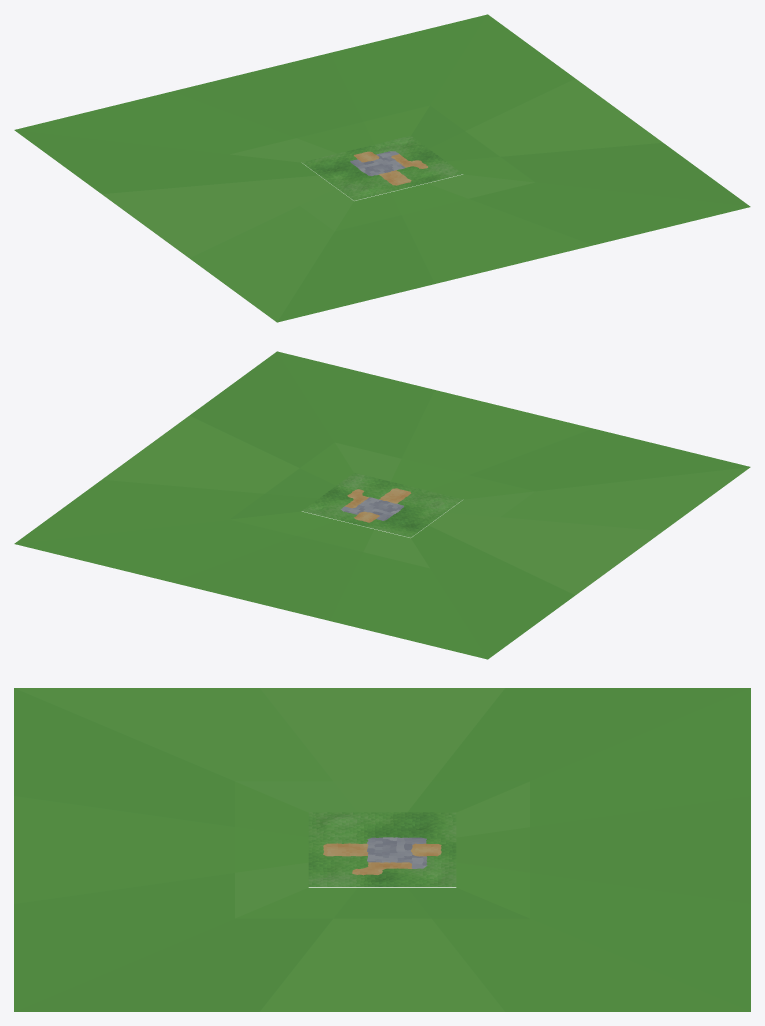
Rendered from ground.glb.
3 renders of one model, top to bottom at view 1: azimuth 30°, elevation 25°; view 2: azimuth 150°, elevation 25°; view 3: azimuth 270°, elevation 25°, orthographic. The views are drawn at different scales.
Visible parts, largest first — view 1: ground; view 2: ground; view 3: ground.
Boxes of the visible parts, x1=… form: ground: x1=14, y1=14, x2=750, y2=322; ground: x1=14, y1=351, x2=750, y2=659; ground: x1=14, y1=688, x2=750, y2=1011.
Size of the model in its own units: 104 by 0.5064 by 100.
